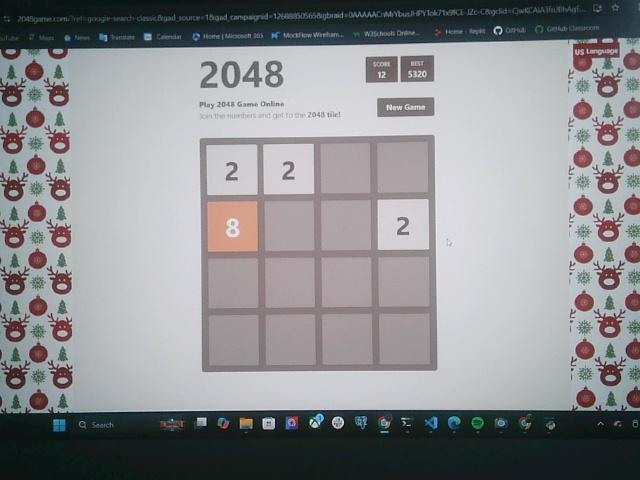board: (201, 138, 435, 370)
tile: (376, 198, 429, 250), (263, 143, 314, 196), (207, 201, 259, 252), (206, 145, 257, 196)
